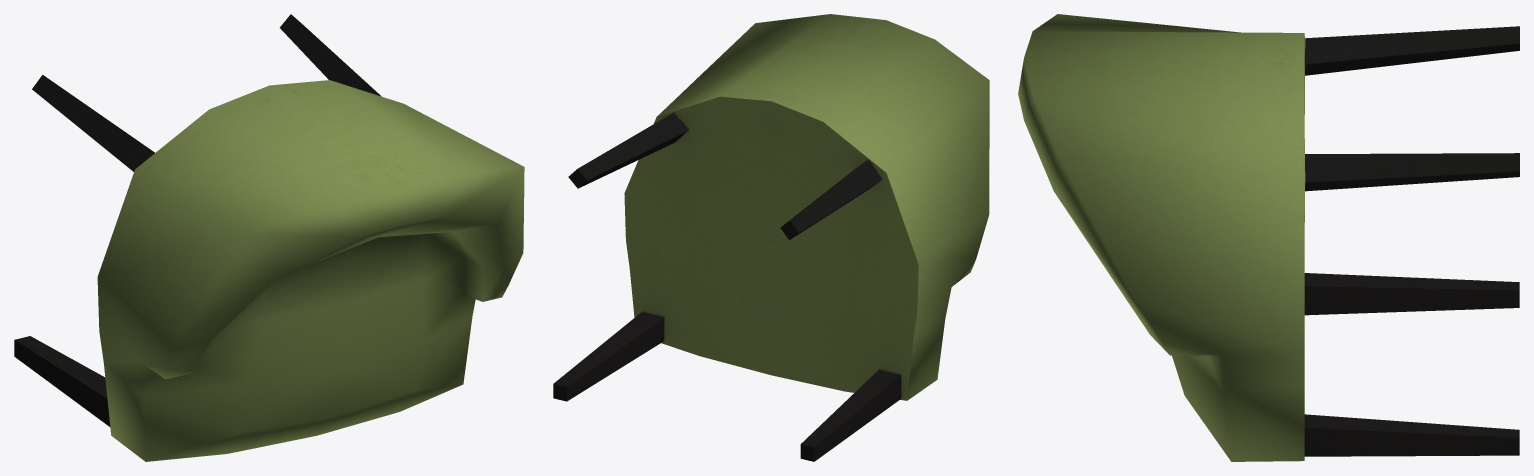
The model's file is nt_2020_chair_yellowgreen_LOD1.obj.
3 renders of one model, left to right at view 1: azimuth 30°, elevation 25°; view 2: azimuth 150°, elevation 25°; view 3: azimuth 270°, elevation 25°, orthographic. The views are drawn at different scales.
Visible parts, largest first — view 1: mtl_nt_2020_chair5_yellowgreen; view 2: mtl_nt_2020_chair5_yellowgreen; view 3: mtl_nt_2020_chair5_yellowgreen.
Boxes of the visible parts, <box> form: mtl_nt_2020_chair5_yellowgreen: <box>14,14,524,461</box>; mtl_nt_2020_chair5_yellowgreen: <box>553,14,989,461</box>; mtl_nt_2020_chair5_yellowgreen: <box>1018,14,1519,461</box>.
Size of the model in its own units: 69.81 by 61.89 by 83.93.
